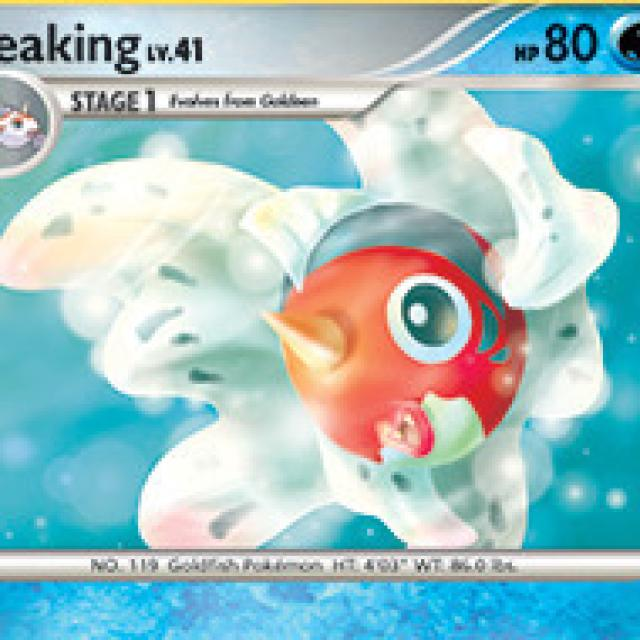Seaking: (65, 117, 629, 548)
